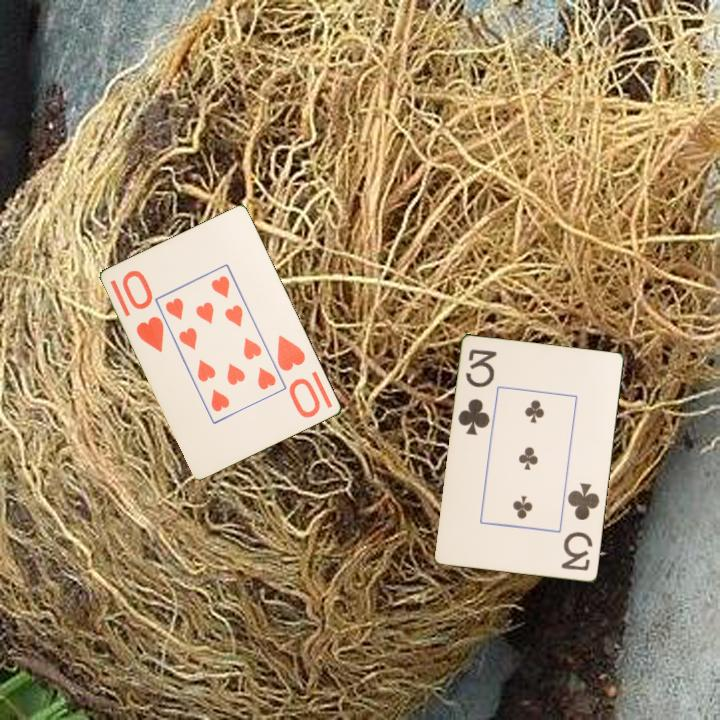10h: (274, 331, 324, 421), (119, 266, 167, 356)
3c: (558, 479, 603, 574), (455, 346, 500, 438)
